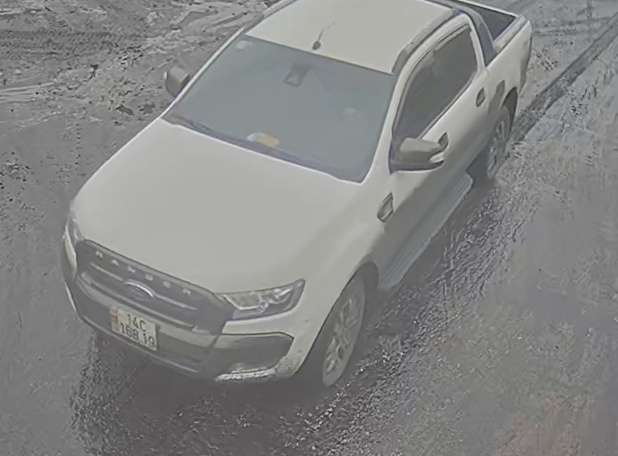vehicle plate: (106, 302, 163, 357)
